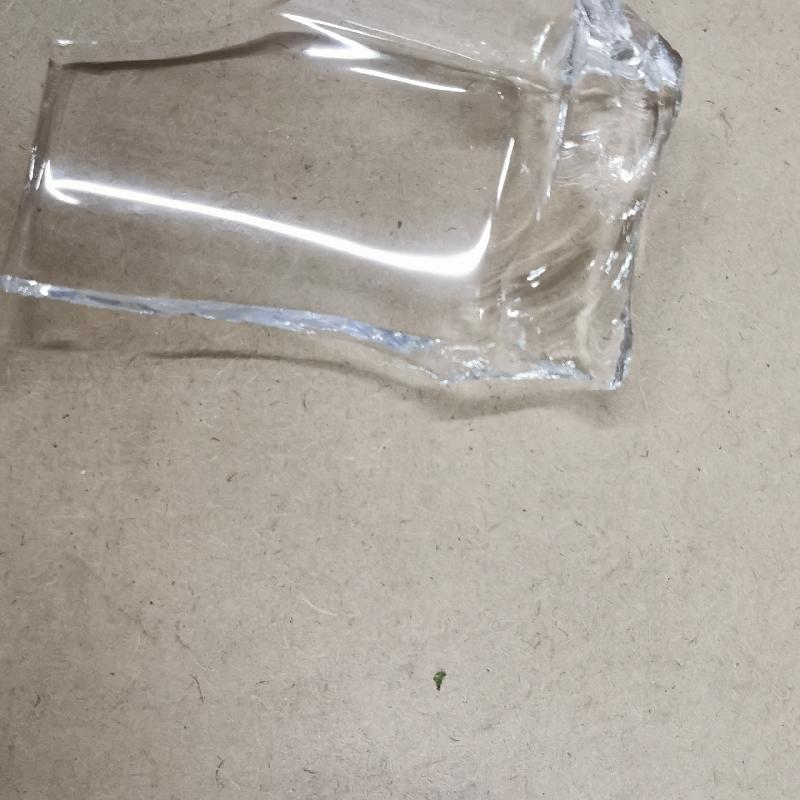glass: (0, 0, 683, 400)
